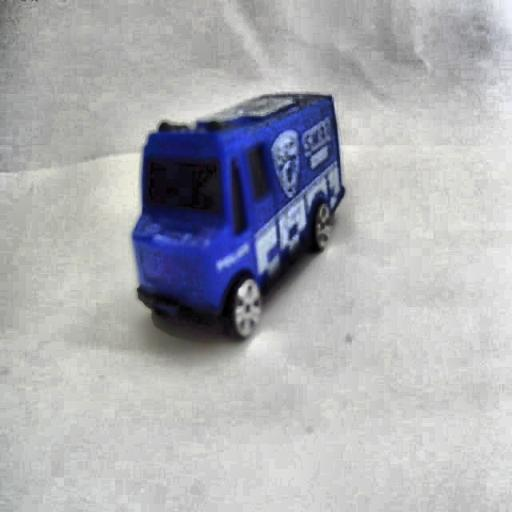police car: (133, 95, 348, 346)
